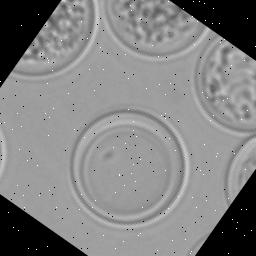picoshell: (68, 109, 191, 229), (9, 0, 100, 82), (99, 0, 211, 62), (193, 33, 256, 136), (219, 131, 256, 211), (188, 234, 210, 256)
